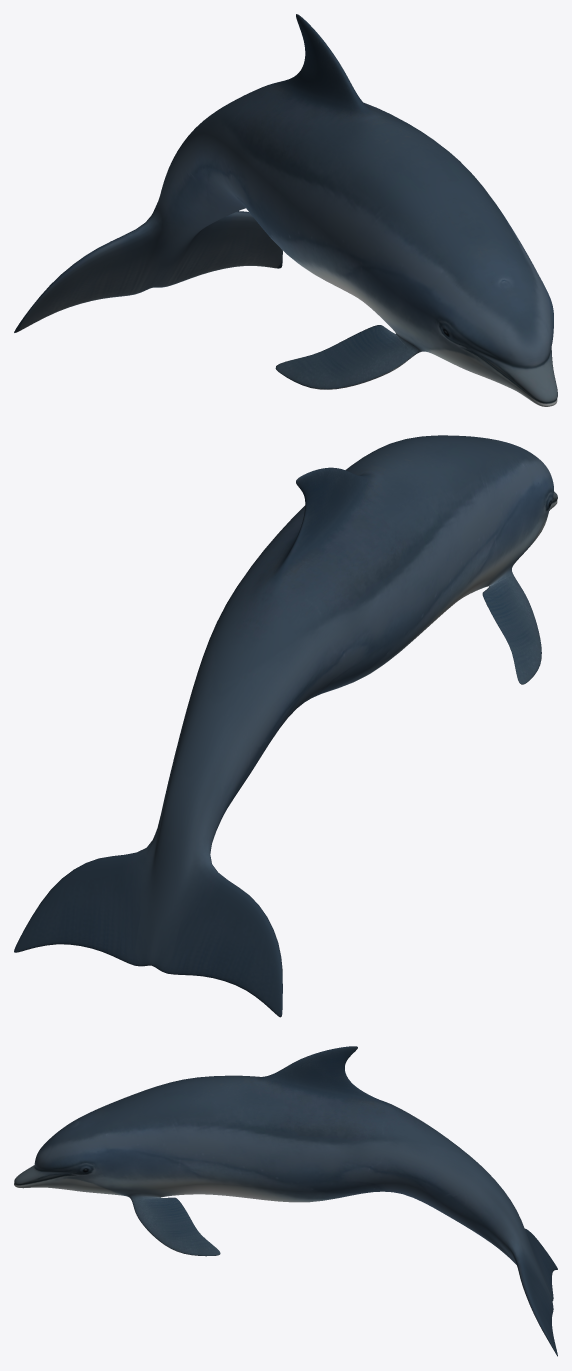
The model's file is 10014_dolphin_v2_max2011_it2.obj.
3 renders of one model, top to bottom at view 1: azimuth 30°, elevation 25°; view 2: azimuth 150°, elevation 25°; view 3: azimuth 270°, elevation 25°, orthographic. The views are drawn at different scales.
Visible parts, largest first — view 1: 10014_dolphin_v2_max2011_it2; view 2: 10014_dolphin_v2_max2011_it2; view 3: 10014_dolphin_v2_max2011_it2.
Boxes of the visible parts, bbox=[...] form: 10014_dolphin_v2_max2011_it2: bbox=[14, 14, 557, 406]; 10014_dolphin_v2_max2011_it2: bbox=[14, 435, 557, 1017]; 10014_dolphin_v2_max2011_it2: bbox=[14, 1046, 557, 1356].
Bounding box in the file's own units: 82.25 × 116 × 215.
Materials: 1 (1 with a texture image).
